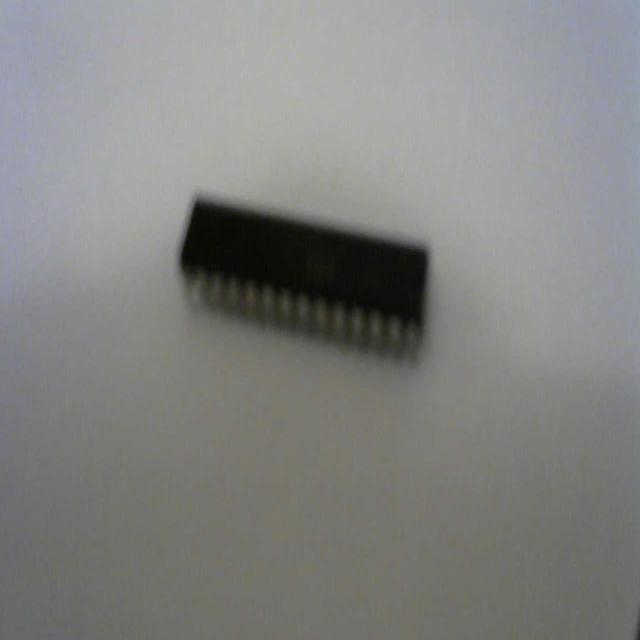atmega: (176, 188, 432, 368)
